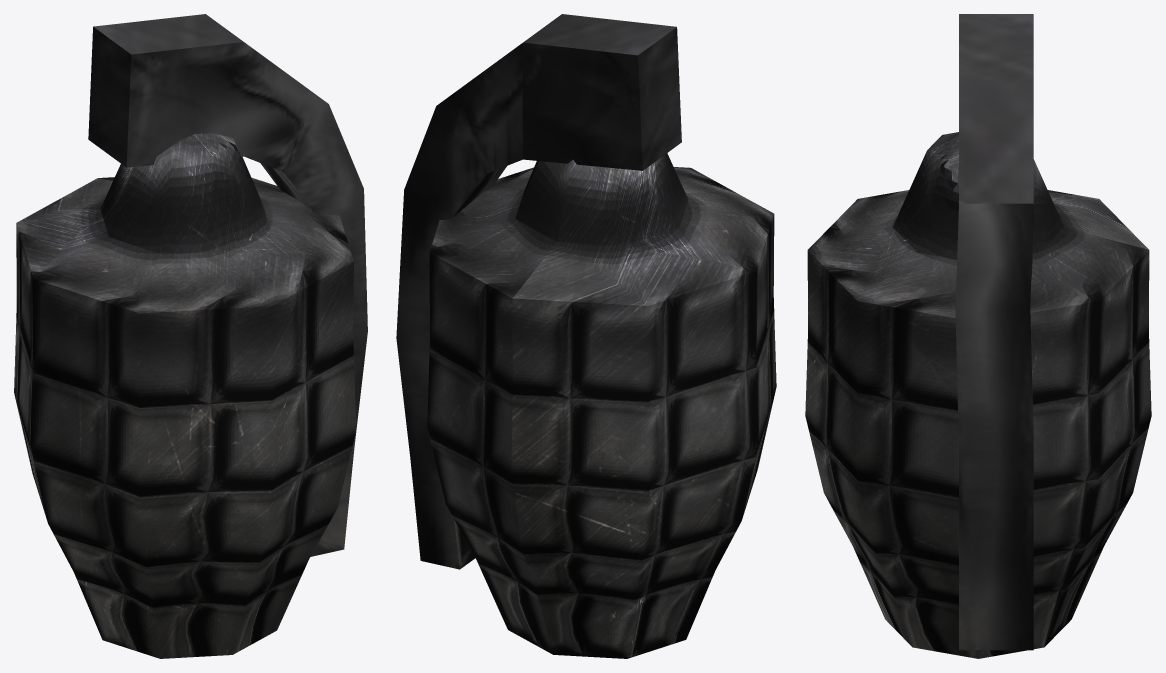
Rendered from AF_M_Prop_19.FBX.
3 renders of one model, left to right at view 1: azimuth 30°, elevation 25°; view 2: azimuth 150°, elevation 25°; view 3: azimuth 270°, elevation 25°, orthographic. The views are drawn at different scales.
Visible parts, largest first — view 1: AF_M_Prop_19; view 2: AF_M_Prop_19; view 3: AF_M_Prop_19.
Boxes of the visible parts, left/top/right/bottom form: AF_M_Prop_19: left=14, top=14, right=367, bottom=658; AF_M_Prop_19: left=396, top=14, right=776, bottom=658; AF_M_Prop_19: left=805, top=14, right=1151, bottom=658.
Bounding box in the file's own units: 93.59 × 161 × 87.98.
1 material, 1 textured.
